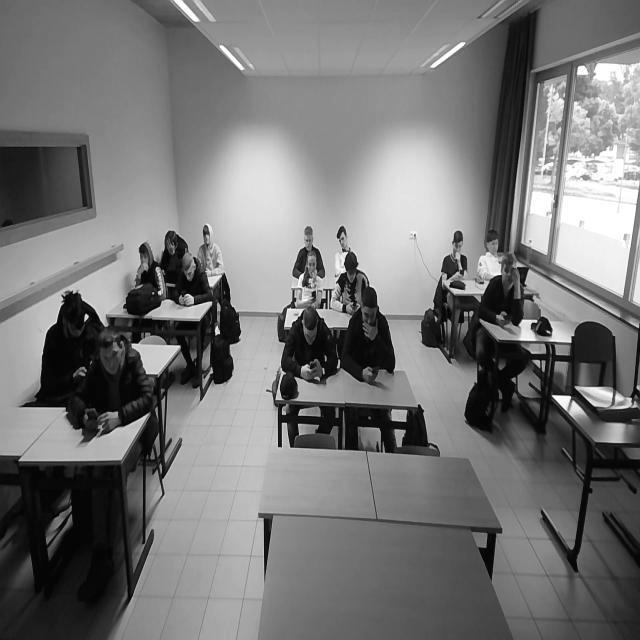Looking away: (484, 231, 498, 257), (336, 224, 348, 250)
Looking forward: (502, 254, 515, 285)
Phone use: (70, 324, 152, 437), (30, 286, 100, 402), (342, 292, 395, 386), (282, 304, 336, 380), (172, 254, 214, 308), (334, 254, 368, 316), (441, 225, 472, 289), (157, 219, 185, 284), (295, 259, 328, 308)
